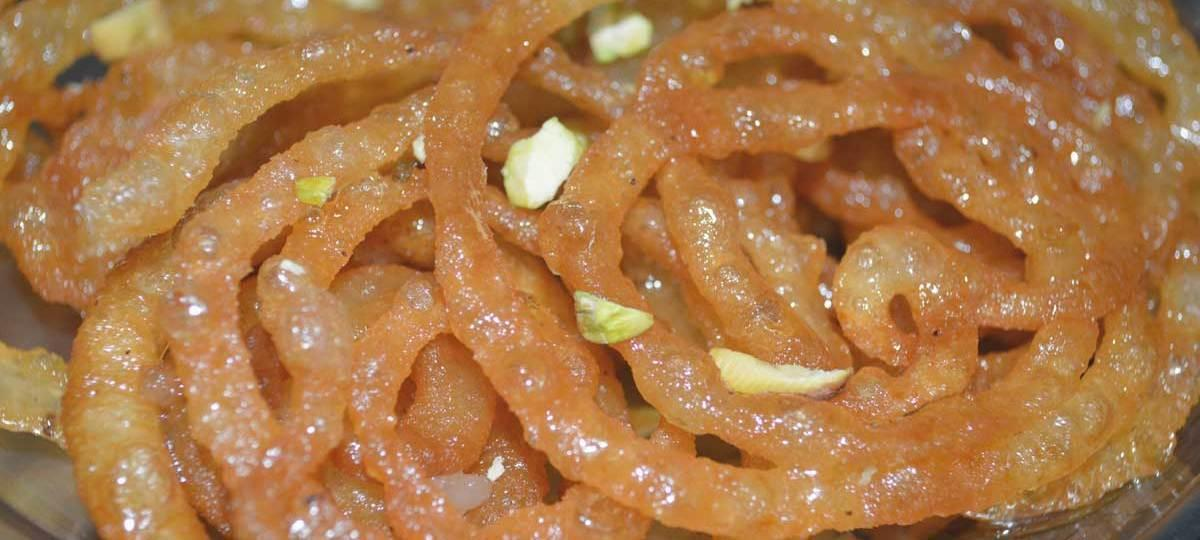jalebi: (0, 5, 1200, 540)
